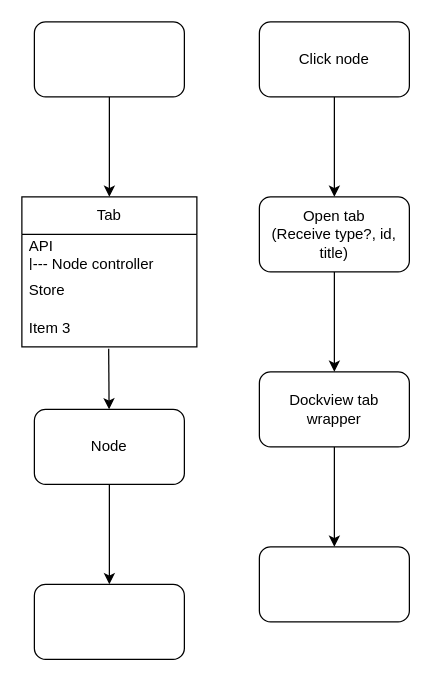
This 431x681 diagram has some shape labels left out. Each missing label, with the centre of its shape:
Editor: the point at 108,621
Workspace: the point at 108,59
